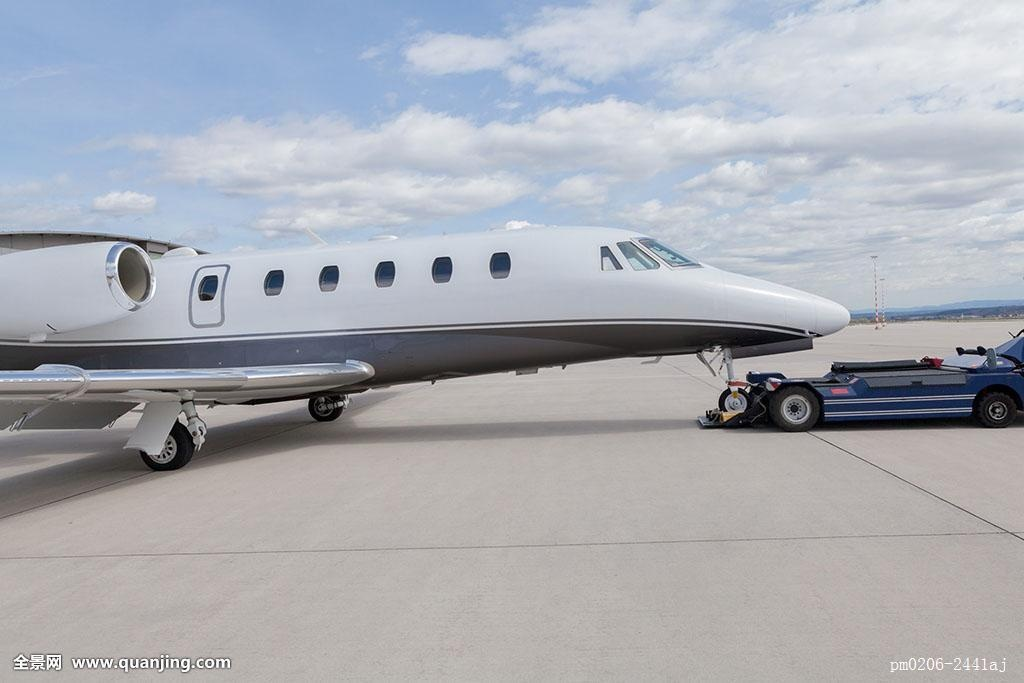airplane: (6, 218, 853, 474)
